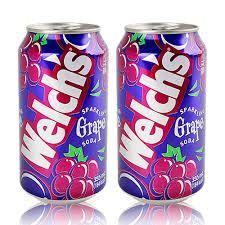welchs_grape: (18, 16, 111, 202), (117, 19, 211, 200)
